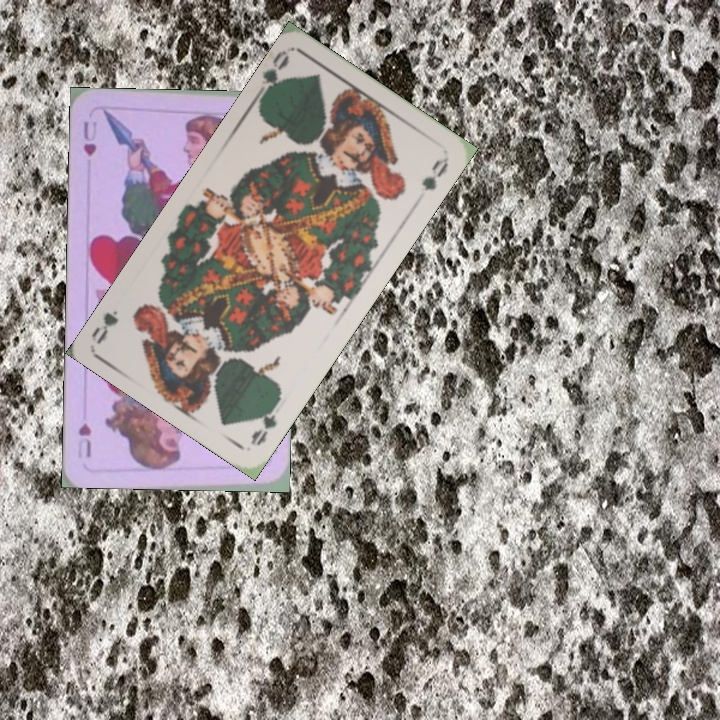GO: (251, 47, 292, 103), (246, 395, 283, 449)
HU: (79, 117, 100, 159)
